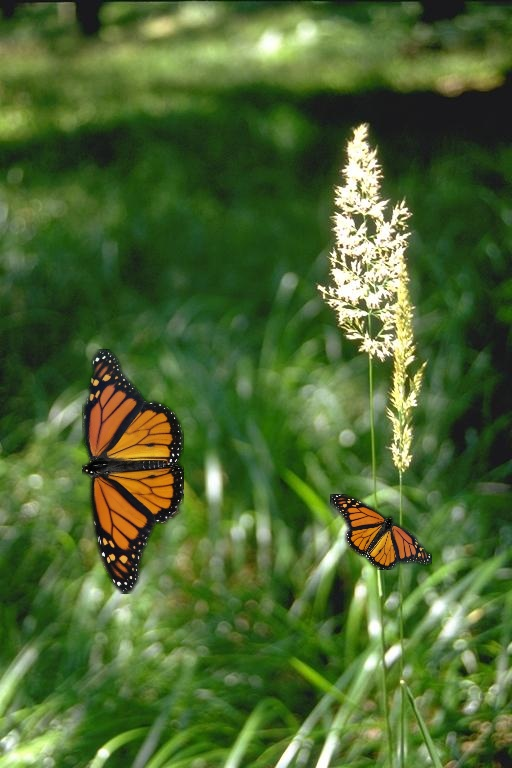danaus_plexippus: (82, 349, 184, 594), (330, 494, 432, 570)
